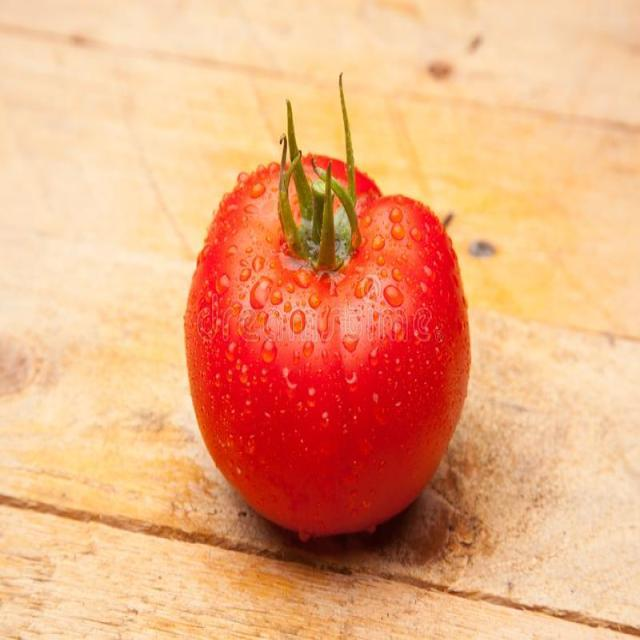kirmizi: (148, 118, 492, 548)
